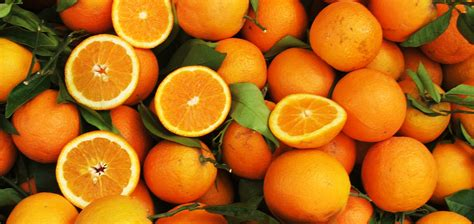orange: (260, 150, 355, 223), (358, 132, 440, 212), (7, 86, 85, 170), (307, 1, 386, 76), (330, 70, 406, 143), (140, 137, 221, 203), (198, 35, 271, 96), (173, 1, 250, 43)
